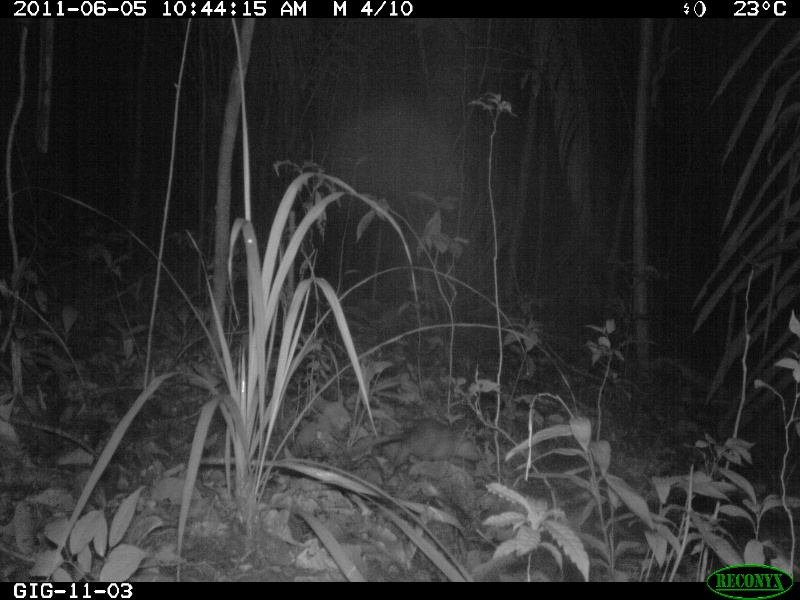opossum: (357, 415, 497, 472)
